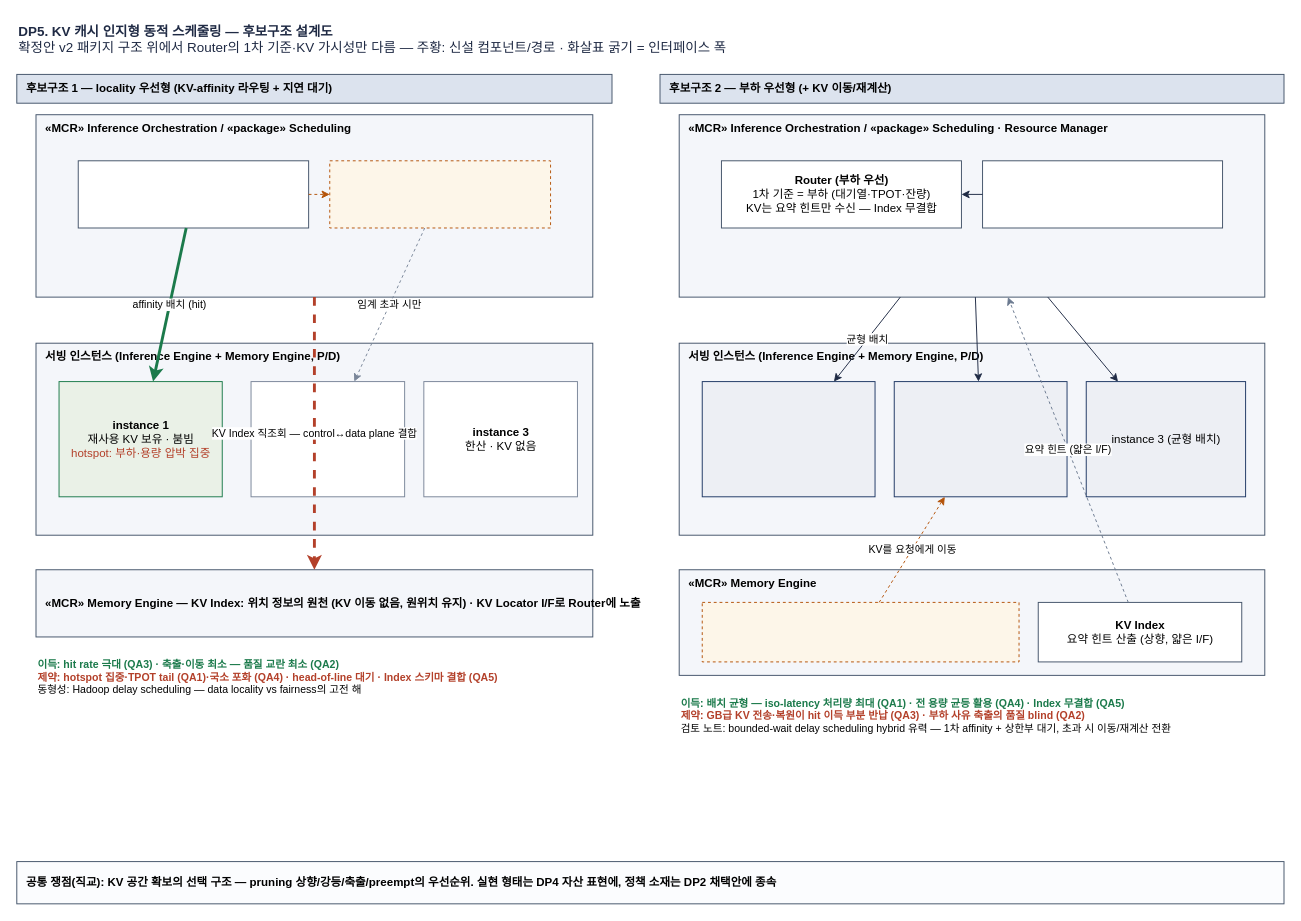
The diagram is 1301 pixels wide and 921 high, and some of its shapes have lost their labels. Each missing label, with the centre of its shape:
"Delay Queue (신설) 대상 포화 시 상한부 대기 — locality 유지, 임계 초과 시 차선지" goes at (440,194).
"Hardware Monitor 부하·잔량 지표 공급" goes at (1102,194).
"instance 1 (균형 배치)" goes at (788,439).
"instance 2 (균형 배치) KV 없음 → Transport가 가져오거나 재계산" goes at (980,439).
"instance 2 한산 · KV 없음 임계 초과 시만 배치" goes at (327,439).
"KV Transport — 이동 경로 확장 (신설) tier/인스턴스 간 전송·복원 — 비용 우위면 재계산(DP3 추정기)" goes at (860,631).
"KV-aware Router 1차 기준 = KV 위치 (affinity) chunk별 KV Locator 조회" goes at (193,194).
